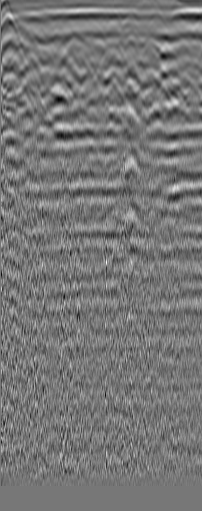오수: (12, 41, 32, 61)
우수: (158, 42, 178, 62)
